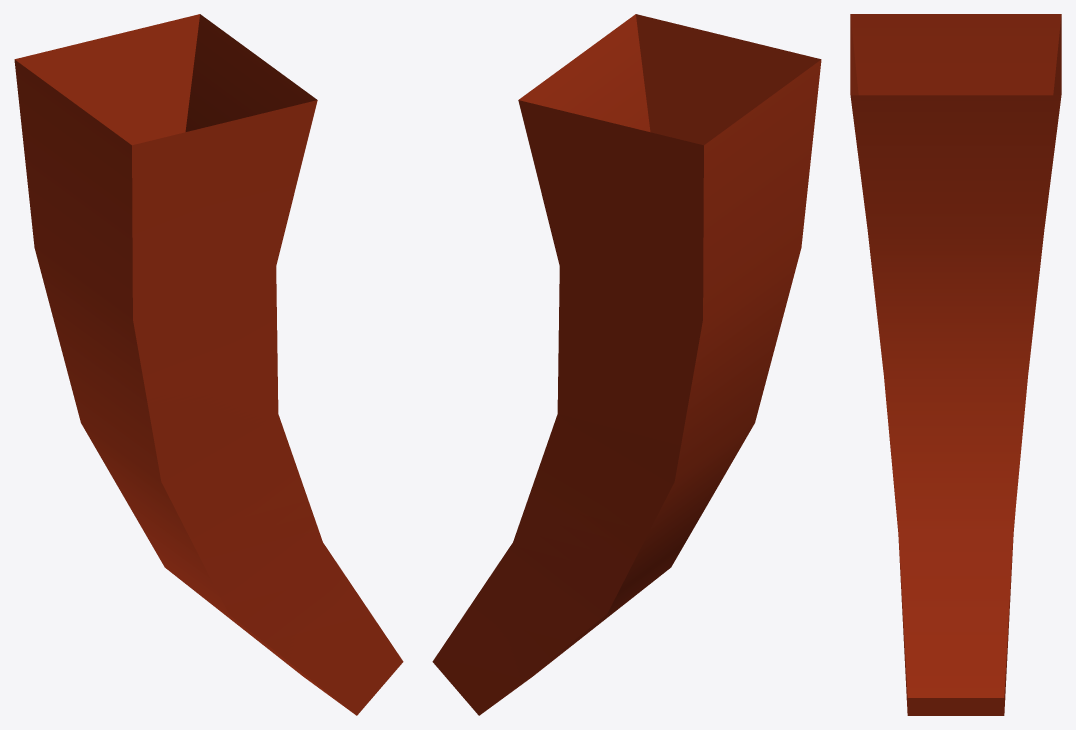
File: Shotgun3_Trigger.fbx
3 renders of one model, left to right at view 1: azimuth 30°, elevation 25°; view 2: azimuth 150°, elevation 25°; view 3: azimuth 270°, elevation 25°, orthographic. The views are drawn at different scales.
Visible parts, largest first — view 1: Shotgun3_Trigger; view 2: Shotgun3_Trigger; view 3: Shotgun3_Trigger.
Boxes of the visible parts, box(x1,y1,x2,y2) form: Shotgun3_Trigger: box(14, 14, 403, 715); Shotgun3_Trigger: box(432, 14, 821, 715); Shotgun3_Trigger: box(850, 14, 1061, 715).
Size of the model in its own units: 1.88 by 3.89 by 1.26.
